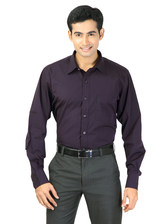clothoes: (13, 48, 152, 193)
other: (55, 145, 119, 161)
